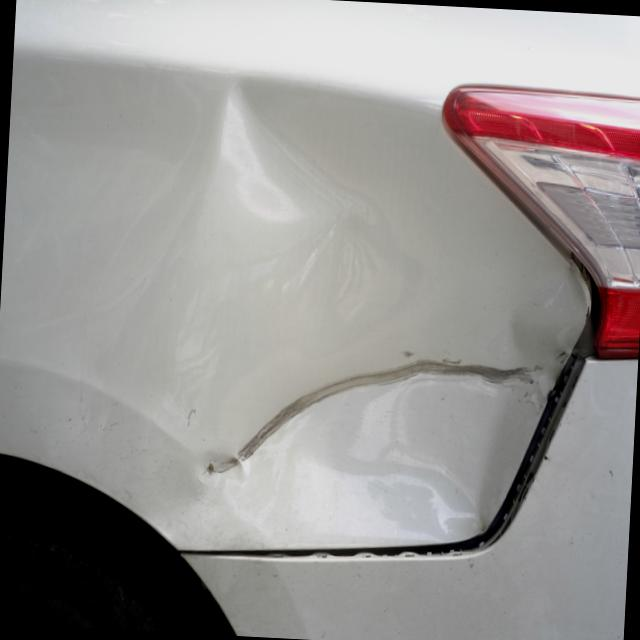Cabossage: (167, 65, 605, 555)
Dechirure: (490, 272, 604, 555)
Rayure: (191, 297, 575, 506)
